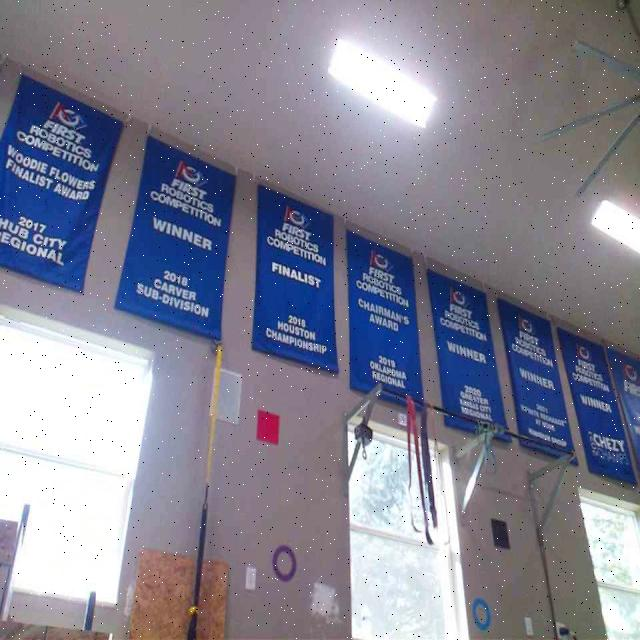ring_blue: (471, 596, 491, 628)
ring_purple: (272, 543, 297, 581)
square_black: (490, 518, 511, 550)
square_red: (253, 408, 281, 445)
